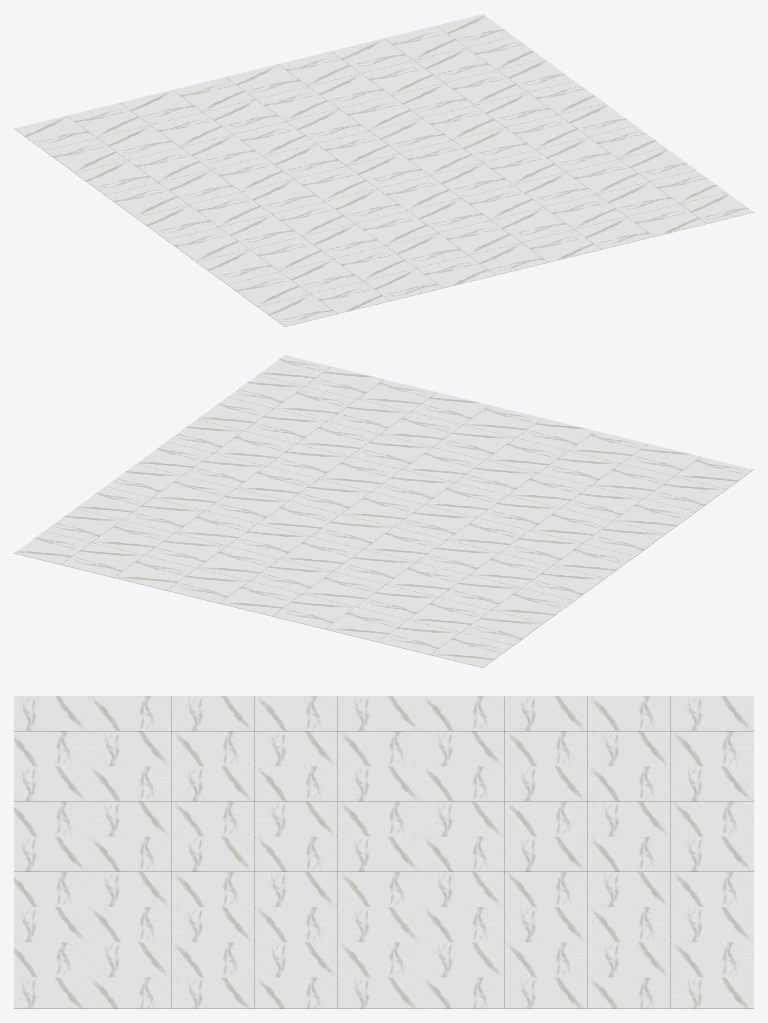
File: calacatta-venicia-90x90.glb
3 views of the same model, one above another, from view 1: azimuth 30°, elevation 25°; view 2: azimuth 150°, elevation 25°; view 3: azimuth 270°, elevation 25° (orthographic). The views are drawn at different scales.
Visible parts, largest first — view 1: Calacatta Venicia; view 2: Calacatta Venicia; view 3: Calacatta Venicia.
Part boxes in pixels (<box>): Calacatta Venicia: <box>14,14,753,326</box>; Calacatta Venicia: <box>14,355,753,667</box>; Calacatta Venicia: <box>14,696,753,1008</box>.
Bounding box in the file's own units: 8 × 0.003 × 8.
2 materials, 1 textured.
